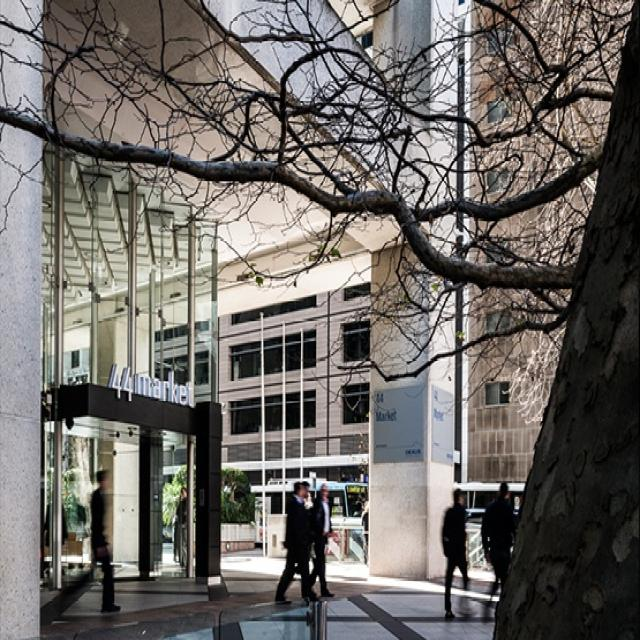body: (270, 480, 314, 606), (39, 486, 87, 591), (280, 477, 318, 608), (89, 466, 122, 614), (438, 486, 473, 623), (480, 480, 518, 592), (309, 482, 337, 600), (237, 411, 368, 432), (353, 489, 369, 583), (171, 484, 188, 568)
